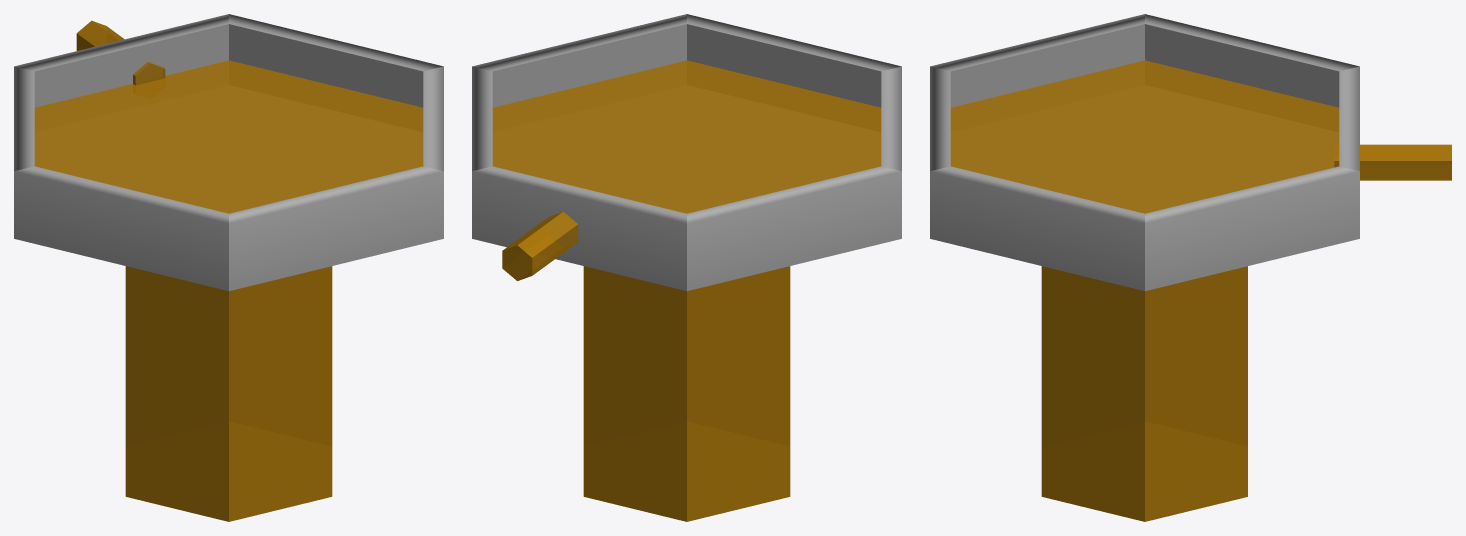
The model's file is PoolOrange.fbx.
The picture shows the model from 3 angles, left to right: view 1: azimuth 30°, elevation 25°; view 2: azimuth 150°, elevation 25°; view 3: azimuth 270°, elevation 25°; orthographic projection.
Parts seen in each view (by area): view 1: PoolOrange, orangeStand, PoolOrangeWater, OrangeOutPipe; view 2: PoolOrange, orangeStand, PoolOrangeWater, OrangeOutPipe; view 3: PoolOrange, orangeStand, PoolOrangeWater, OrangeOutPipe.
Boxes of the visible parts, x1,y1,x2,y2 form: PoolOrange: (14, 14, 443, 290); orangeStand: (125, 266, 332, 521); PoolOrangeWater: (34, 60, 423, 213); OrangeOutPipe: (76, 20, 165, 85); PoolOrange: (472, 14, 901, 290); orangeStand: (583, 266, 790, 521); PoolOrangeWater: (492, 60, 881, 213); OrangeOutPipe: (502, 211, 578, 280); PoolOrange: (930, 14, 1359, 290); orangeStand: (1041, 266, 1247, 521); PoolOrangeWater: (950, 60, 1339, 213); OrangeOutPipe: (1334, 144, 1451, 180).
Size of the model in its own units: 0.05 by 0.0392 by 0.0526.
